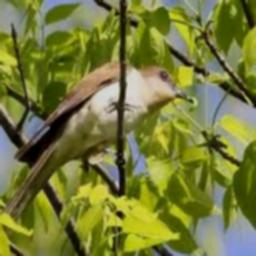Cuckoo: (0, 62, 194, 241)
